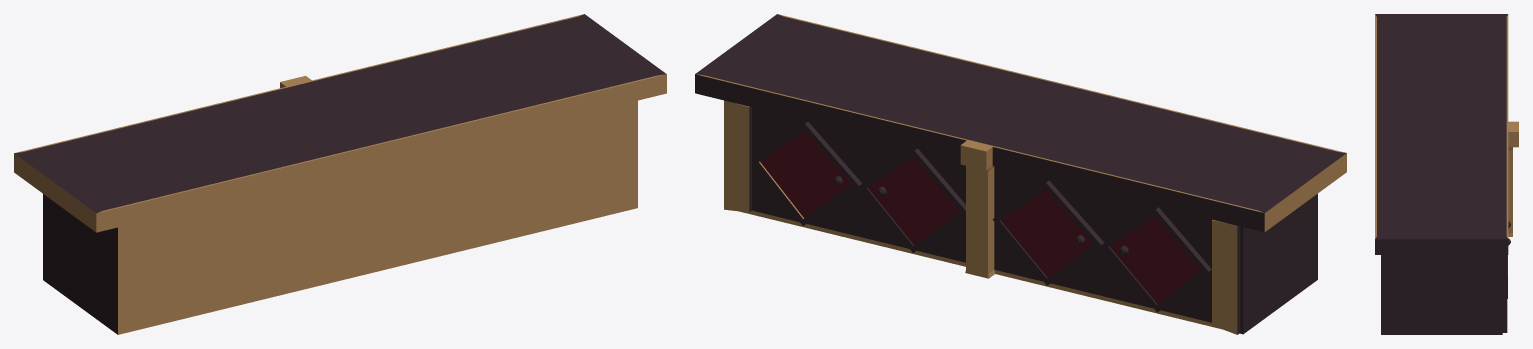
The model's file is LCmesaArmario.fbx.
3 views of the same model, side by side, from view 1: azimuth 30°, elevation 25°; view 2: azimuth 150°, elevation 25°; view 3: azimuth 270°, elevation 25° (orthographic). The views are drawn at different scales.
Parts seen in each view (by area): view 1: Sphere.002; view 2: Sphere.002; view 3: Sphere.002.
Boxes of the visible parts, bbox=[...] form: Sphere.002: bbox=[14, 14, 666, 334]; Sphere.002: bbox=[695, 14, 1346, 334]; Sphere.002: bbox=[1375, 14, 1518, 334].
Bounding box in the file's own units: 1600 × 349 × 431.
